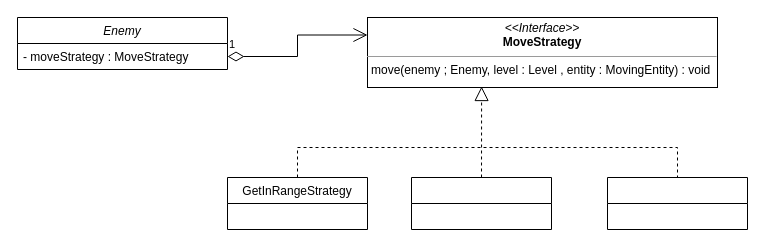
This 765x247 diagram has some shape labels left out. The centre of each missing label's shape, as x and y in pixels:
BlindStrategy: (677,203)
TrackStrategy: (481,203)
